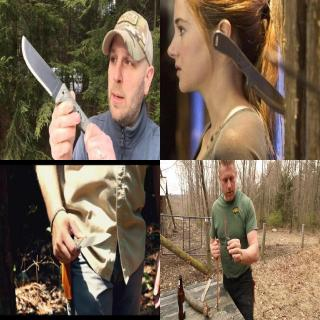knife: (210, 25, 288, 120), (20, 32, 76, 114), (57, 226, 113, 264), (220, 208, 237, 258)
